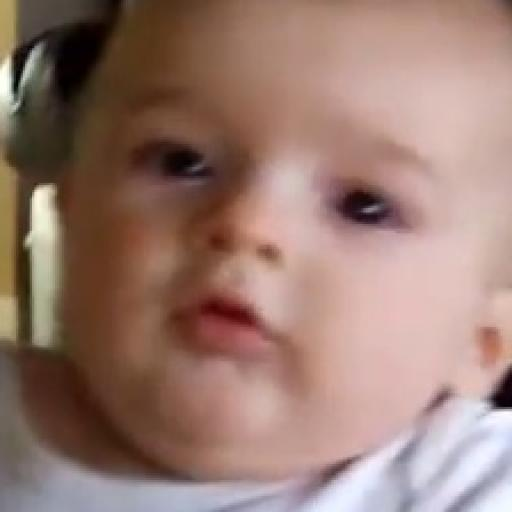Autism: (112, 0, 511, 498)
